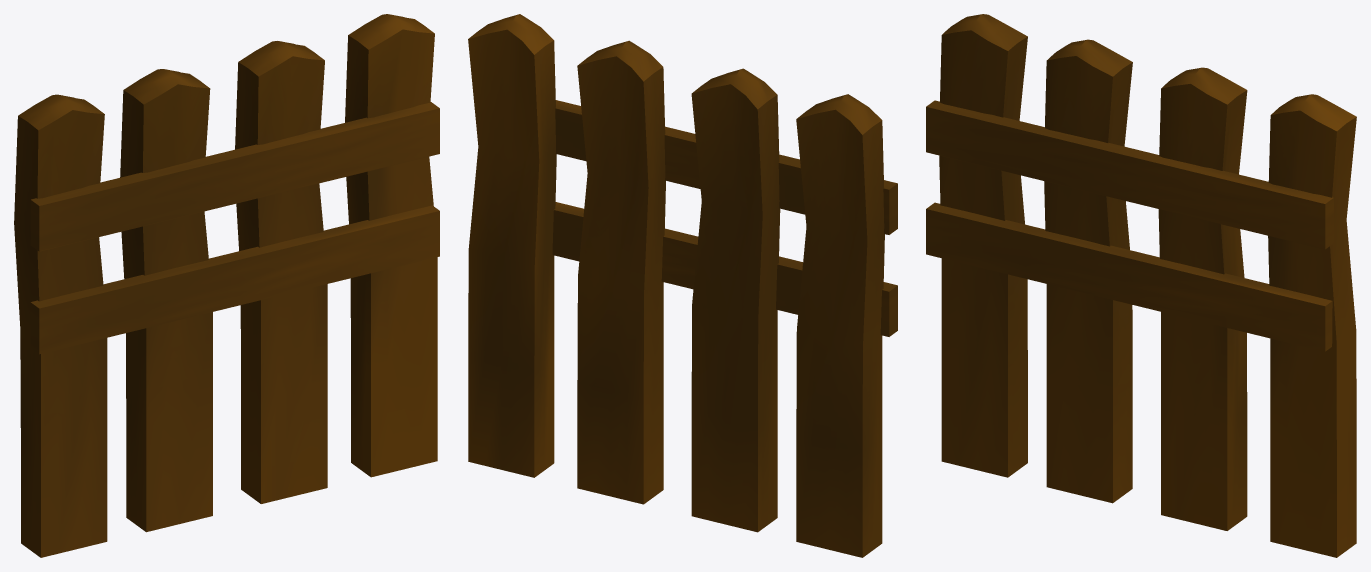
File: cerca.glb
3 renders of one model, left to right at view 1: azimuth 30°, elevation 25°; view 2: azimuth 150°, elevation 25°; view 3: azimuth 330°, elevation 25°, orthographic.
Parts seen in each view (by area): view 1: Object_2; view 2: Object_2; view 3: Object_2.
Part boxes in pixels (x1=…): Object_2: x1=14, y1=14, x2=439, y2=557; Object_2: x1=468, y1=14, x2=897, y2=557; Object_2: x1=926, y1=14, x2=1356, y2=557.
Size of the model in its own units: 1.17 by 1.23 by 0.1434.
1 material, 1 textured.
